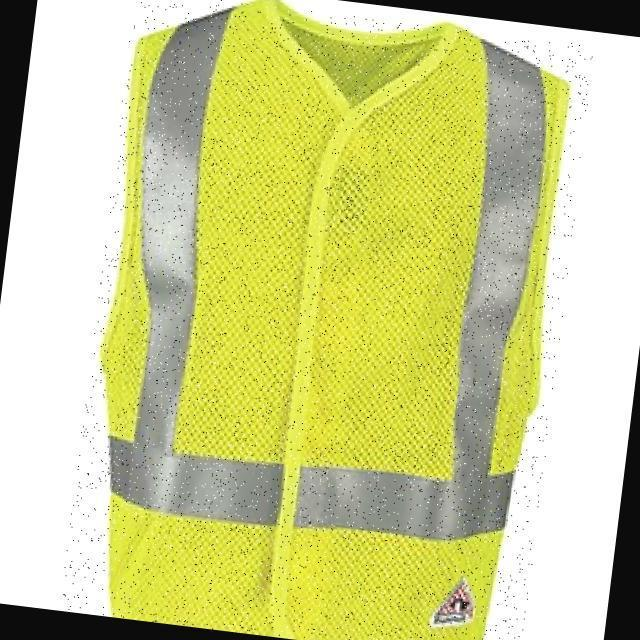vest: (58, 0, 595, 640)
